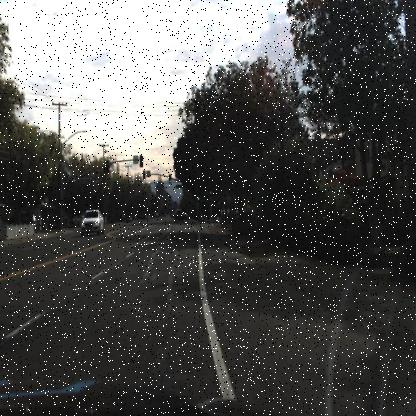car: (80, 208, 105, 236)
